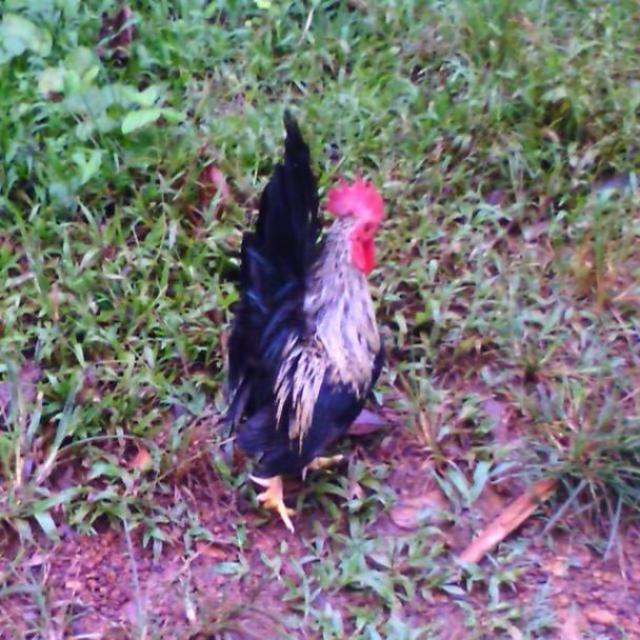Chicken: (219, 99, 394, 545)
